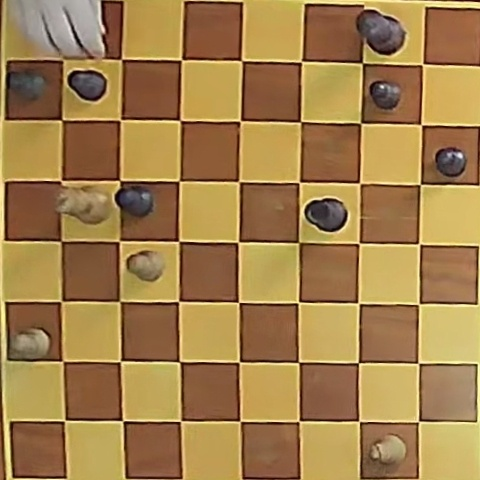black-king: (357, 10, 406, 55)
black-pawn: (66, 69, 106, 101), (116, 185, 154, 217), (8, 70, 46, 101), (370, 80, 402, 110), (435, 147, 466, 177)
black-rook: (305, 198, 347, 232)
white-bishop: (371, 435, 406, 465)
white-king: (56, 186, 110, 223)
white-pawn: (9, 327, 51, 360), (127, 250, 165, 281)
